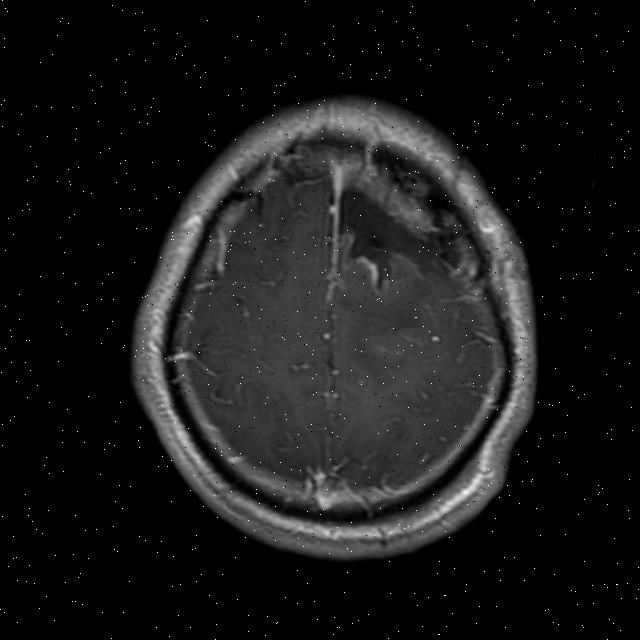Glioma: (323, 175, 473, 308)
